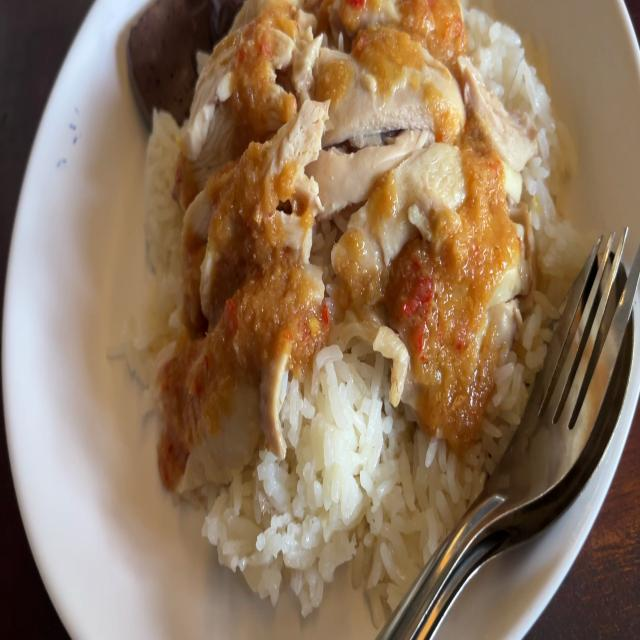boiled_chicken: (192, 3, 511, 450)
boiled_chicken_blood_jelly: (130, 0, 221, 110)
chicken_rice: (117, 8, 566, 589)
